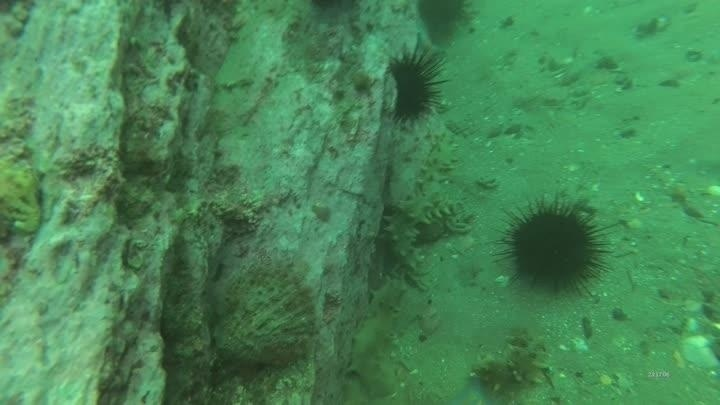echinus: (495, 194, 613, 297), (384, 43, 450, 127), (413, 0, 475, 46)
holothurian: (344, 277, 408, 401), (381, 187, 458, 274), (469, 325, 553, 399), (415, 129, 462, 193)
